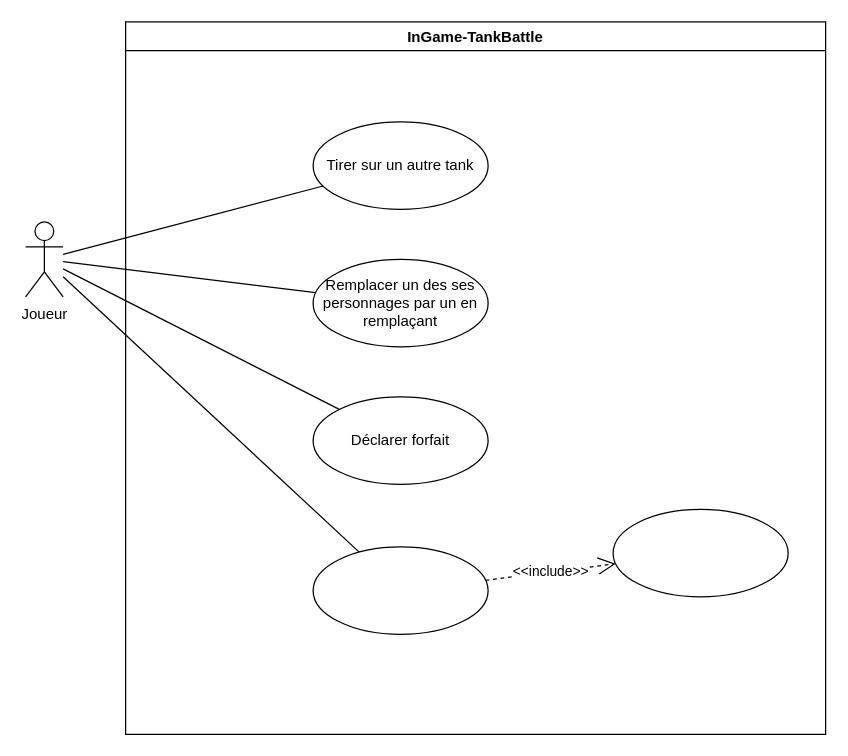
This 848x756 diagram has some shape labels left out. The shapes that lost their labels are listed below. From the top down, each one's centre as x and y in pixels, then its label:
the point at 700,552: Utiliser de l'essence
the point at 400,590: Déplacer le tank
